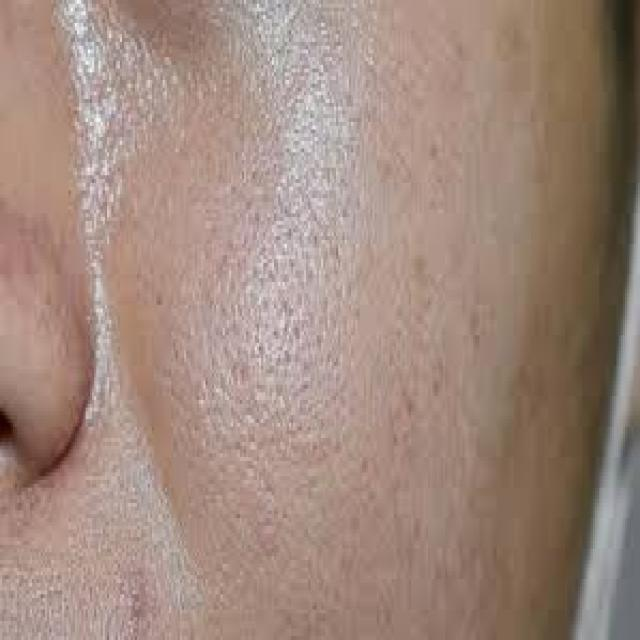oily: (110, 97, 574, 640)
